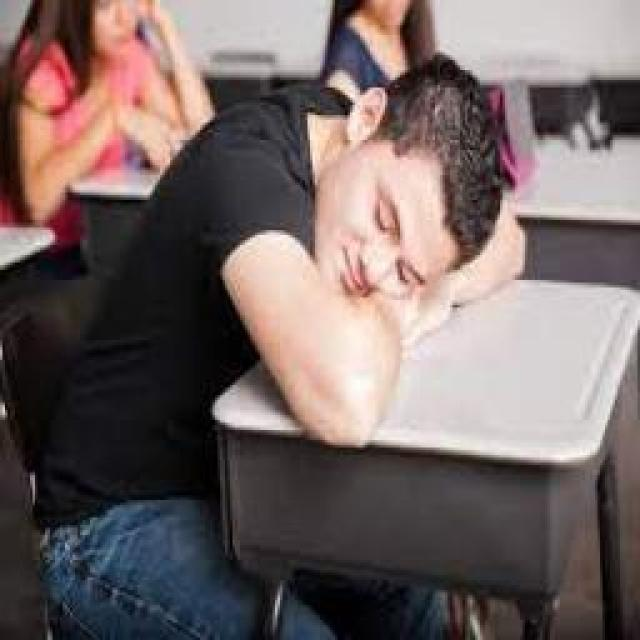sleep: (122, 53, 532, 455)
